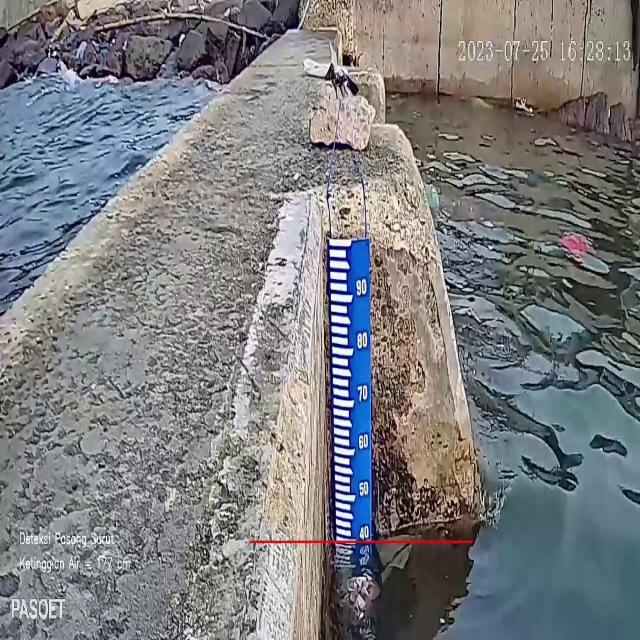40: (360, 524, 370, 540)
50: (358, 479, 370, 499)
60: (357, 432, 369, 453)
70: (356, 383, 369, 402)
80: (355, 330, 369, 350)
90: (355, 275, 367, 299)
staff: (328, 236, 371, 540)
